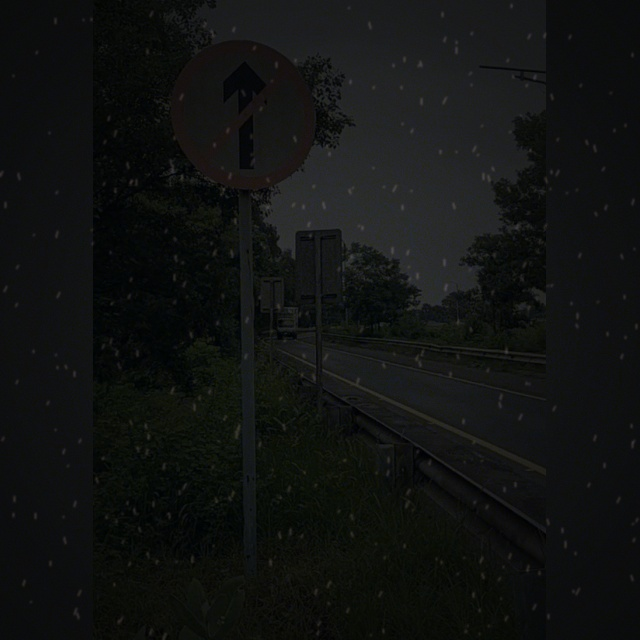No_Entry: (169, 44, 319, 187)
